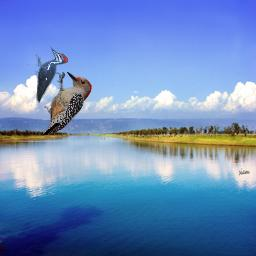Woodpecker: (43, 72, 92, 135), (35, 46, 68, 105)
